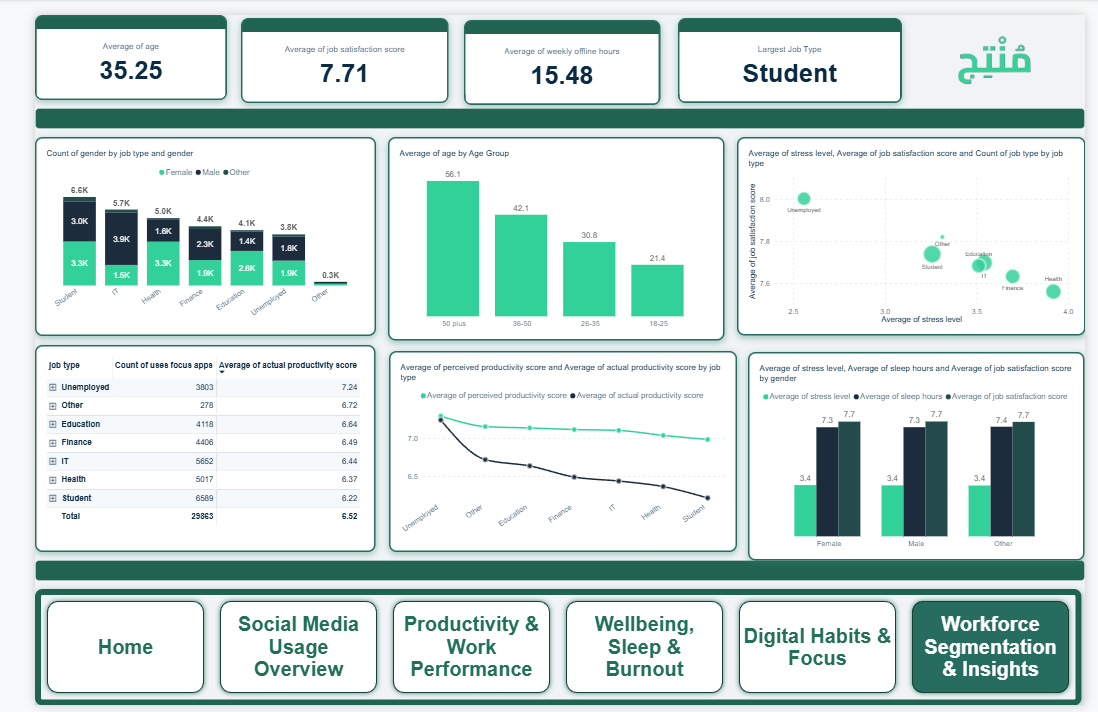

Layout of this report page (visuals, bound fields, positions):
{"tool":"powerbi","page":{"name":"Workforce Segmentation & Insights","canvas":[2100,1380],"ordinal":5},"visuals":[{"type":"shape","box":[0,186,2100,38],"z":0},{"type":"shape","box":[0,1090,2100,14],"z":1000},{"type":"cardVisual","fields":{"Data":["Avg(Productivity.age)"]},"box":[0,0,384.3,170],"z":2000},{"type":"cardVisual","fields":{"Data":["Avg(Productivity.job satisfaction score)"]},"box":[412.5,5,415,170],"z":3000},{"type":"cardVisual","fields":{"Data":["Avg(Productivity.weekly offline hours)"]},"box":[857.5,10,392.5,170],"z":4000},{"type":"cardVisual","fields":{"Data":["myMeasures.Largest Job Type"]},"box":[1285,5,447.5,170],"z":5000},{"type":"columnChart","fields":{"Category":["Productivity.job type"],"Series":["Productivity.gender"],"Y":["CountNonNull(Productivity.gender)"]},"box":[0,244,682,398],"z":6000},{"type":"clusteredColumnChart","fields":{"Category":["Productivity.Age Group"],"Y":["Avg(Productivity.age)"]},"box":[706.7,243.3,673.3,406.7],"z":7000},{"type":"scatterChart","fields":{"Category":["Productivity.job type"],"Size":["CountNonNull(Productivity.job type)"],"X":["Avg(Productivity.stress level)"],"Y":["Productivity.job satisfaction score"]},"box":[1403.3,243.3,696.7,396.7],"z":8000},{"type":"clusteredColumnChart","fields":{"Category":["Productivity.gender"],"Y":["Avg(Productivity.stress level)","Avg(Productivity.sleep hours)","Avg(Productivity.job satisfaction score)"]},"box":[1426.7,673.3,673.3,416.7],"z":9000},{"type":"lineChart","fields":{"Category":["Productivity.job type"],"Y":["Avg(Productivity.perceived productivity score)","Avg(Productivity.actual productivity score)"]},"box":[708,672,696,402],"z":10000},{"type":"pivotTable","fields":{"Rows":["Productivity.job type","Productivity.Age Group"],"Values":["CountNonNull(Productivity.uses focus apps)","Avg(Productivity.actual productivity score)"]},"box":[0,660,681.4,414.3],"z":11000},{"type":"image","box":[1732.5,10,367.5,160],"z":12000},{"type":"pageNavigator","box":[0,1147.5,2092.5,232.5],"z":13000}]}

Visuals, with their boxes in screenshot pixels (x1, y1, x2, y2), scaled from the page's 2100x1380 canvas onto the 1098x712 screenshot:
shape: x1=0, y1=96, x2=1097, y2=116
shape: x1=0, y1=562, x2=1097, y2=570
cardVisual - Avg(Productivity.age): x1=0, y1=0, x2=201, y2=88
cardVisual - Avg(Productivity.job satisfaction score): x1=216, y1=3, x2=433, y2=90
cardVisual - Avg(Productivity.weekly offline hours): x1=448, y1=5, x2=654, y2=93
cardVisual - myMeasures.Largest Job Type: x1=672, y1=3, x2=906, y2=90
columnChart - Productivity.job type x Productivity.gender: x1=0, y1=126, x2=357, y2=331
clusteredColumnChart - Productivity.Age Group x Avg(Productivity.age): x1=370, y1=126, x2=722, y2=335
scatterChart - Productivity.job type x CountNonNull(Productivity.job type): x1=734, y1=126, x2=1097, y2=330
clusteredColumnChart - Productivity.gender x Avg(Productivity.stress level): x1=746, y1=347, x2=1097, y2=562
lineChart - Productivity.job type x Avg(Productivity.perceived productivity score): x1=370, y1=347, x2=734, y2=554
pivotTable - Productivity.job type x Productivity.Age Group: x1=0, y1=341, x2=356, y2=554
image: x1=906, y1=5, x2=1097, y2=88
pageNavigator: x1=0, y1=592, x2=1094, y2=711
